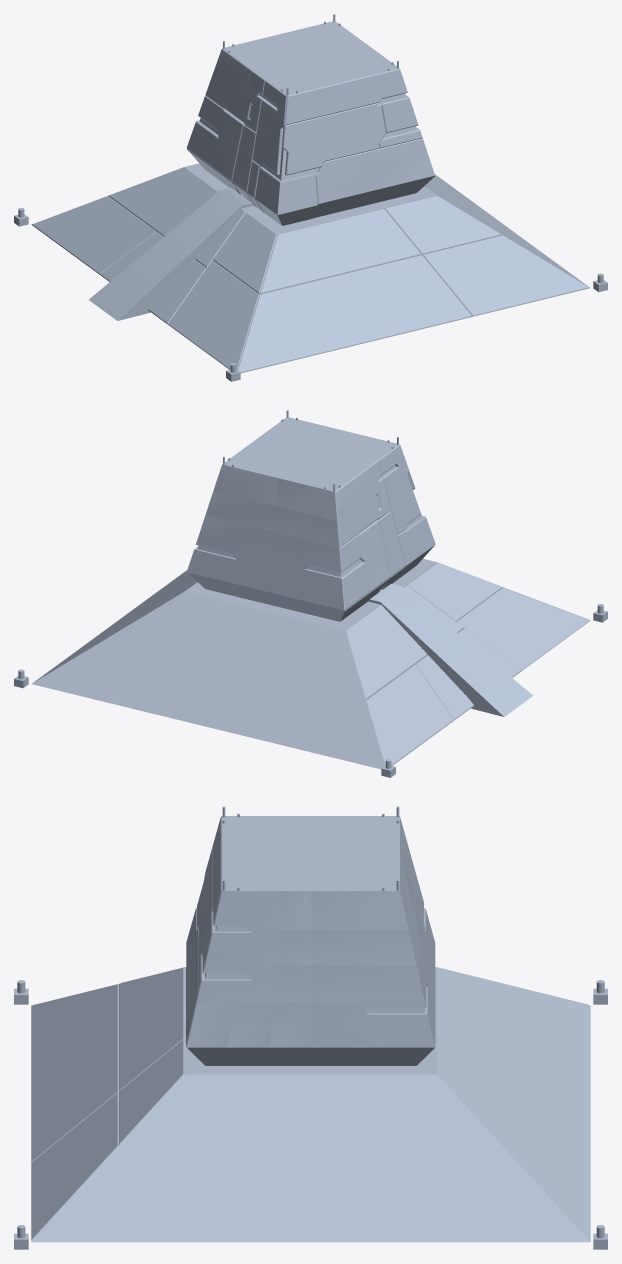
Rendered from Building_7_003.fbx.
3 renders of one model, top to bottom at view 1: azimuth 30°, elevation 25°; view 2: azimuth 150°, elevation 25°; view 3: azimuth 270°, elevation 25°, orthographic. The views are drawn at different scales.
Parts seen in each view (by area): view 1: polySurface4.002; view 2: polySurface4.002; view 3: polySurface4.002.
Part boxes in pixels (box(x1,y1,x2,y2)): polySurface4.002: box(14, 14, 607, 381); polySurface4.002: box(14, 410, 607, 777); polySurface4.002: box(14, 806, 607, 1249).
Bounding box in the file's own units: 11548 × 5806 × 10975.
